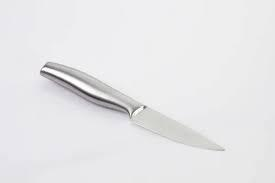Knife: (39, 60, 225, 151)
